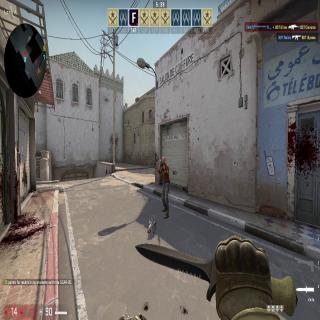CT-Body: (162, 157, 170, 219)
CT-Head: (162, 157, 166, 165)
